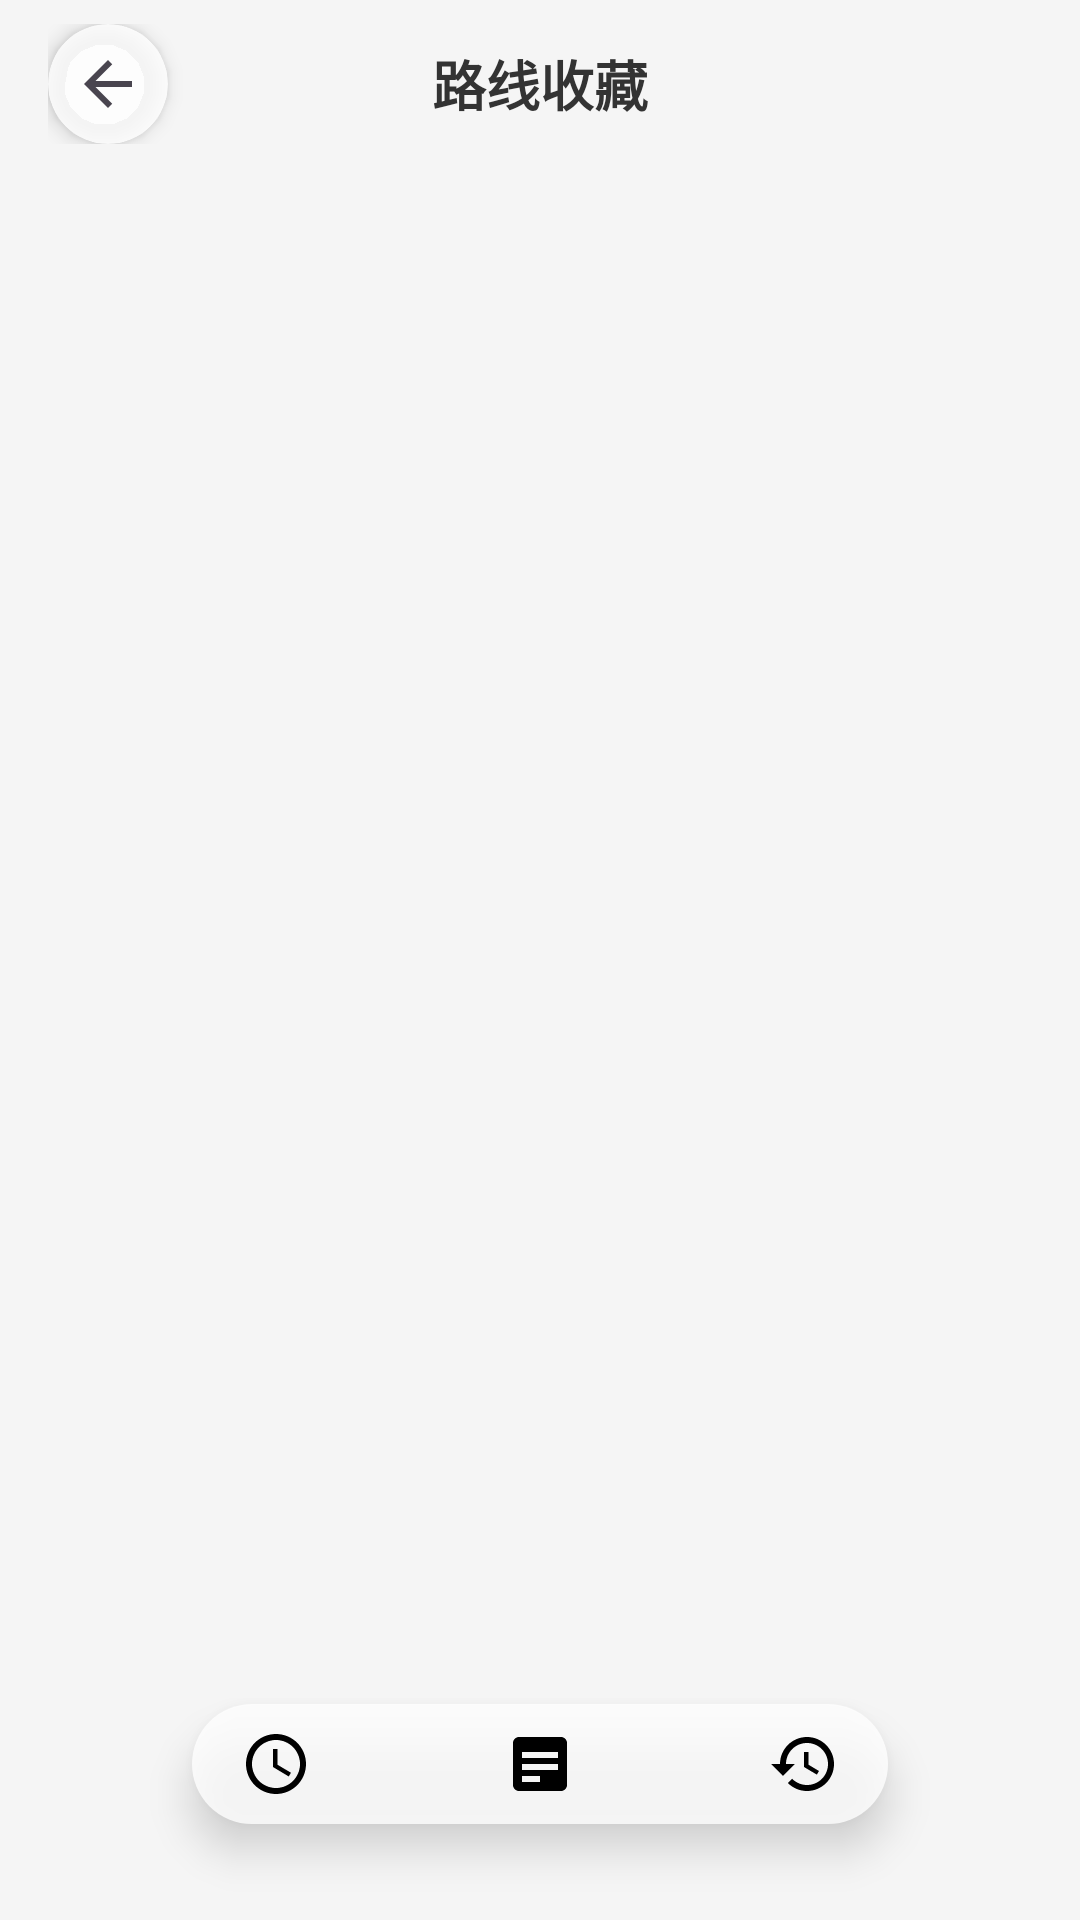

Screen size 1080px×1920px. Icon name, then its box in pixels as (x1,y1,x2,y2):
route history: (771,1737,834,1791)
返回: (48,32,132,144)
